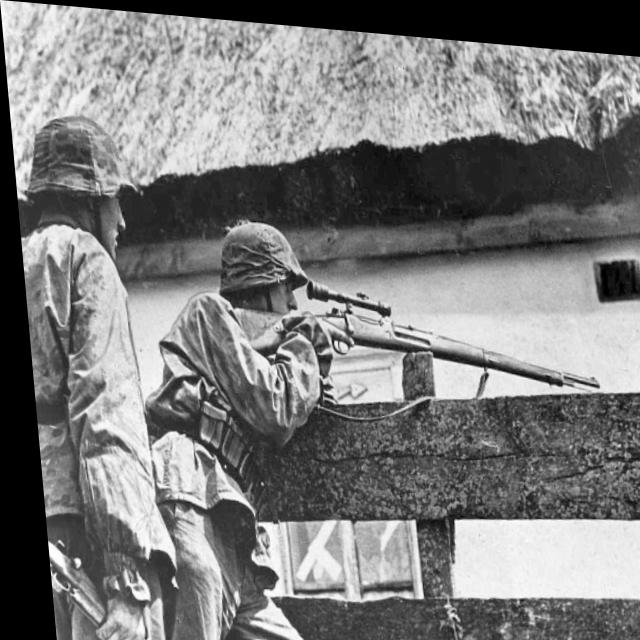other: (100, 203, 375, 640), (7, 103, 188, 638)
